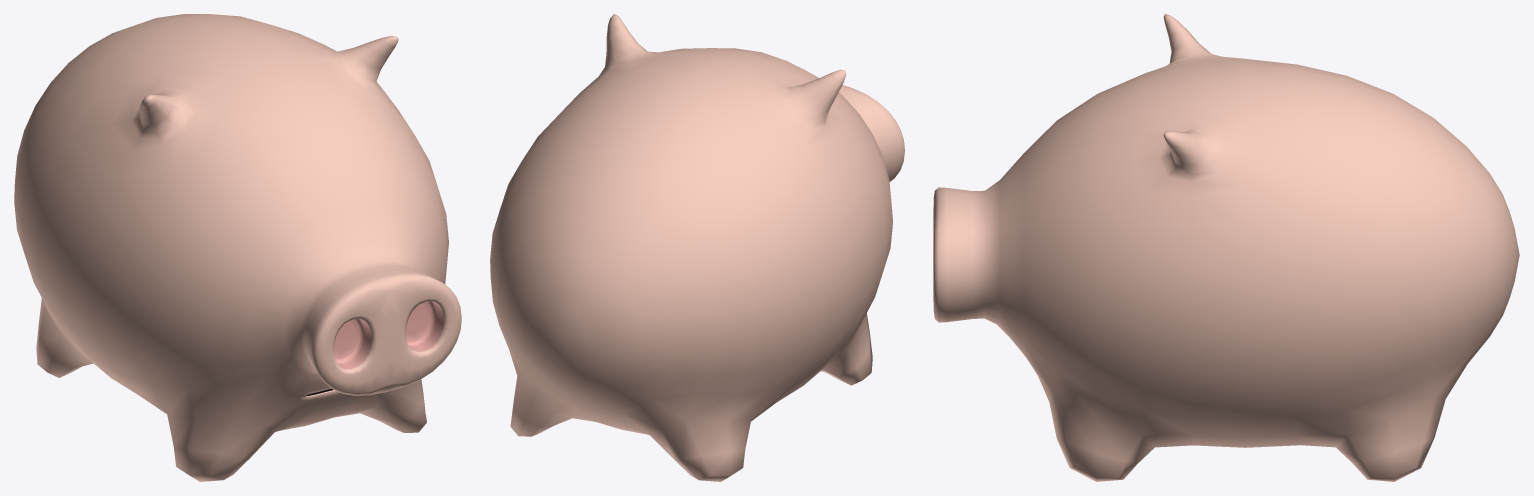
File: PIG.fbx
The picture shows the model from 3 angles, left to right: view 1: azimuth 30°, elevation 25°; view 2: azimuth 150°, elevation 25°; view 3: azimuth 270°, elevation 25°; orthographic projection. The views are drawn at different scales.
Parts seen in each view (by area): view 1: pig; view 2: pig; view 3: pig.
Boxes of the visible parts, <box> form: pig: <box>14,14,461,481</box>; pig: <box>490,14,904,481</box>; pig: <box>933,14,1519,481</box>.
Bounding box in the file's own units: 1.9 × 1.93 × 2.87.
